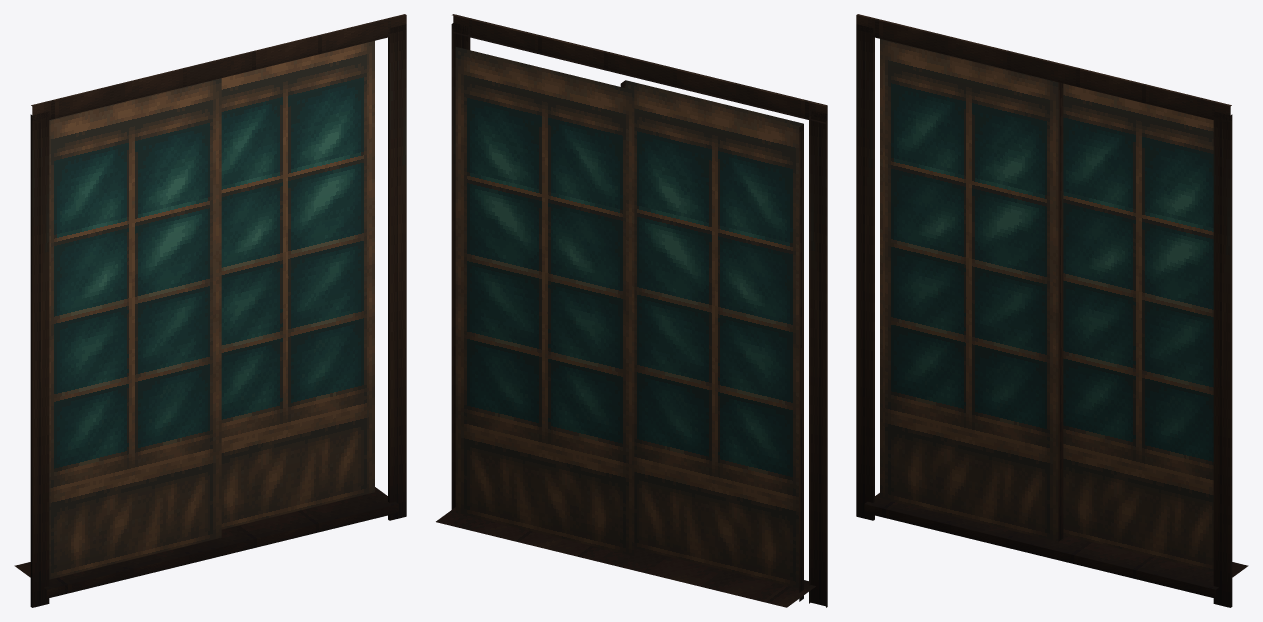
Rendered from prop_sash-12-16-1.glb.
3 views of the same model, side by side, from view 1: azimuth 30°, elevation 25°; view 2: azimuth 150°, elevation 25°; view 3: azimuth 330°, elevation 25° (orthographic).
Parts seen in each view (by area): view 1: prop_sash-12-16-1; view 2: prop_sash-12-16-1; view 3: prop_sash-12-16-1.
Part boxes in pixels (x1,y1,x2,y2): prop_sash-12-16-1: (14,14,406,607); prop_sash-12-16-1: (436,14,827,607); prop_sash-12-16-1: (856,14,1248,607).
Bounding box in the file's own units: 1.32 × 1.69 × 0.2.
2 materials, 2 textured.
